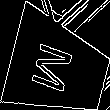M_E: (32, 38, 84, 97)
